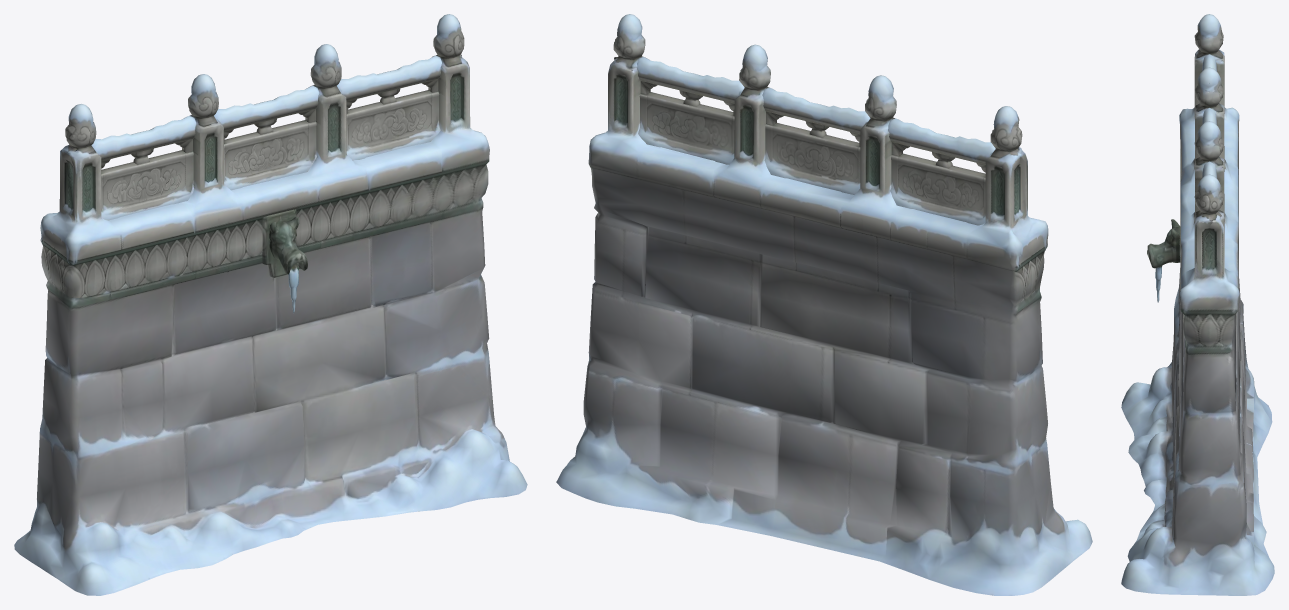
File: SM_Tripo_FrostJadeRetainingWall.glb
The picture shows the model from 3 angles, left to right: view 1: azimuth 30°, elevation 25°; view 2: azimuth 150°, elevation 25°; view 3: azimuth 270°, elevation 25°; orthographic projection. The views are drawn at different scales.
Visible parts, largest first — view 1: SM_Tripo_FrostJadeRetainingWall_LOD0; view 2: SM_Tripo_FrostJadeRetainingWall_LOD0; view 3: SM_Tripo_FrostJadeRetainingWall_LOD0.
Part boxes in pixels (x1,y1,x2,y2): SM_Tripo_FrostJadeRetainingWall_LOD0: [14, 14, 527, 595]; SM_Tripo_FrostJadeRetainingWall_LOD0: [556, 14, 1092, 595]; SM_Tripo_FrostJadeRetainingWall_LOD0: [1121, 14, 1274, 595].
Bounding box in the file's own units: 7.02 × 6.5 × 2.26.
1 material, 1 textured.
